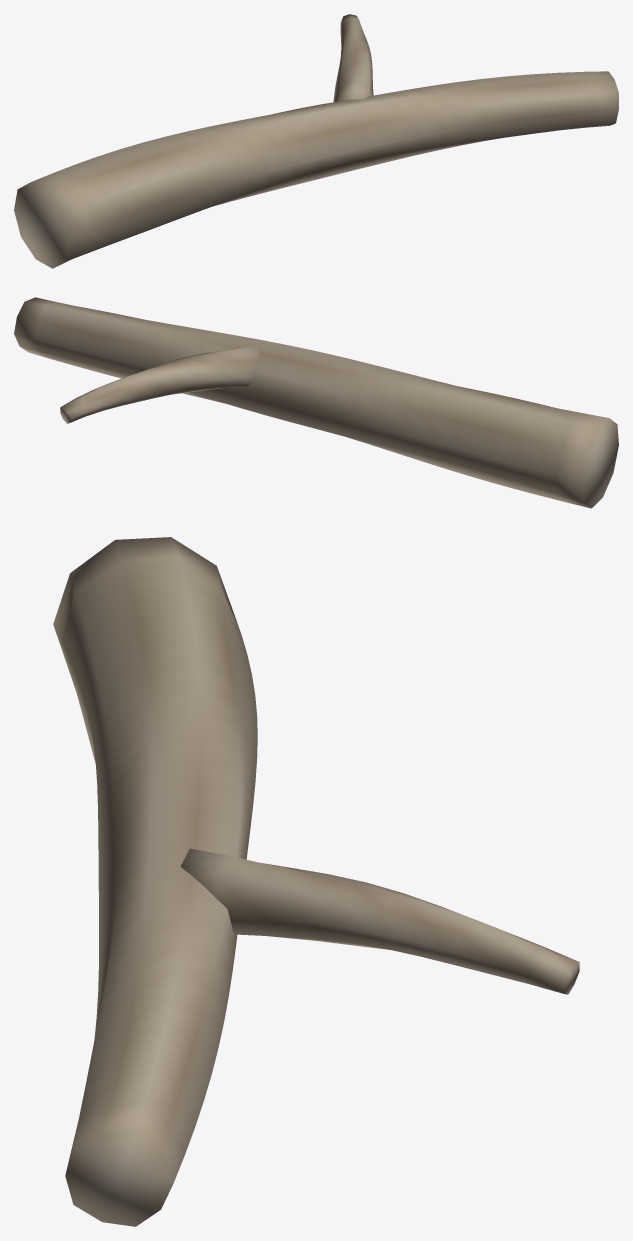
File: beach-driftwood.glb
The picture shows the model from 3 angles, top to bottom: view 1: azimuth 30°, elevation 25°; view 2: azimuth 150°, elevation 25°; view 3: azimuth 270°, elevation 25°; orthographic projection. The views are drawn at different scales.
Visible parts, largest first — view 1: Beach_driftwood; view 2: Beach_driftwood; view 3: Beach_driftwood.
Boxes of the visible parts, x1,y1,x2,y2 form: Beach_driftwood: [14, 14, 618, 268]; Beach_driftwood: [14, 297, 618, 508]; Beach_driftwood: [53, 537, 579, 1226].
Bounding box in the file's own units: 1 × 0.1426 × 0.3991.
